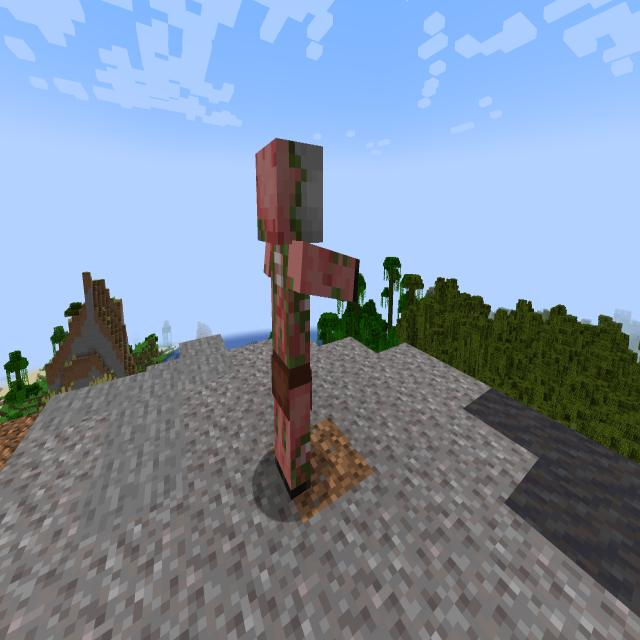Zombified Piglin: (242, 124, 366, 512)
